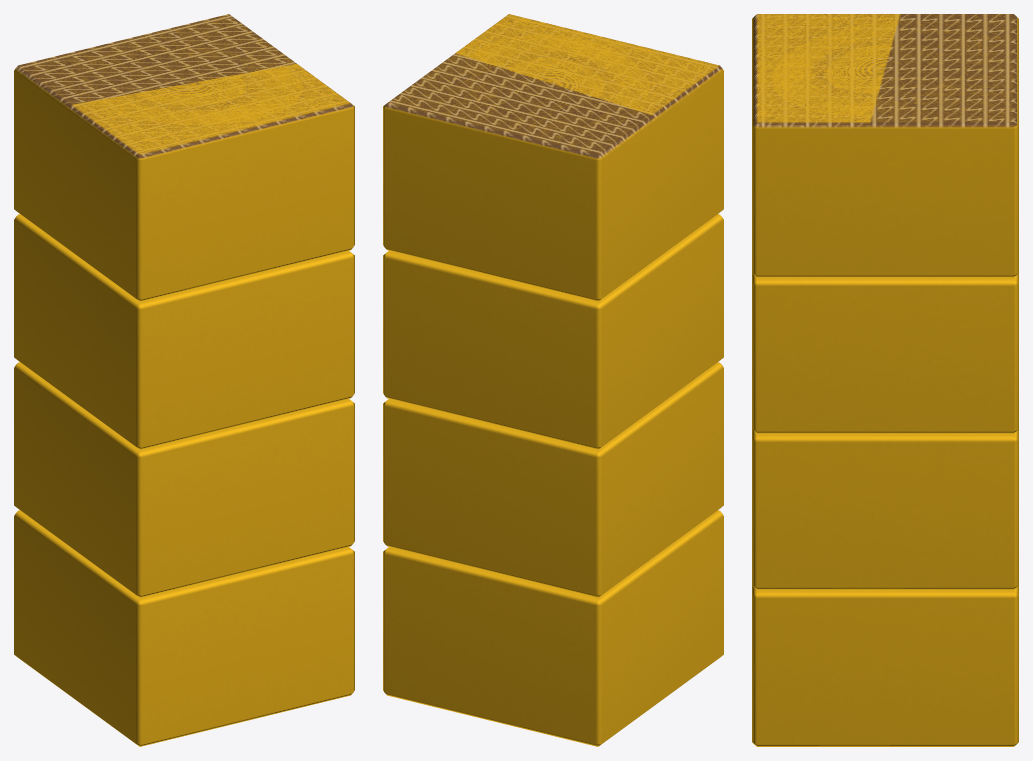
Rendered from 35-posts-front-right.fbx.
3 views of the same model, side by side, from view 1: azimuth 30°, elevation 25°; view 2: azimuth 150°, elevation 25°; view 3: azimuth 270°, elevation 25° (orthographic). The views are drawn at different scales.
Parts seen in each view (by area): view 1: posts-front-right; view 2: posts-front-right; view 3: posts-front-right.
Boxes of the visible parts, x1,y1,x2,y2 form: posts-front-right: (14, 14, 354, 746); posts-front-right: (383, 14, 723, 746); posts-front-right: (752, 14, 1018, 746).
Size of the model in its own units: 2400 by 6200 by 2400.
Materials: 1 (1 with a texture image).
